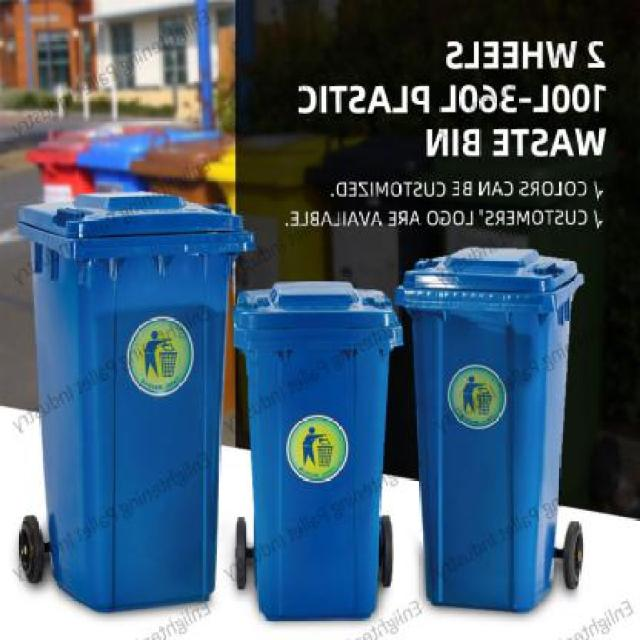garbage container: (9, 188, 254, 620), (392, 238, 592, 622), (223, 278, 408, 624)
